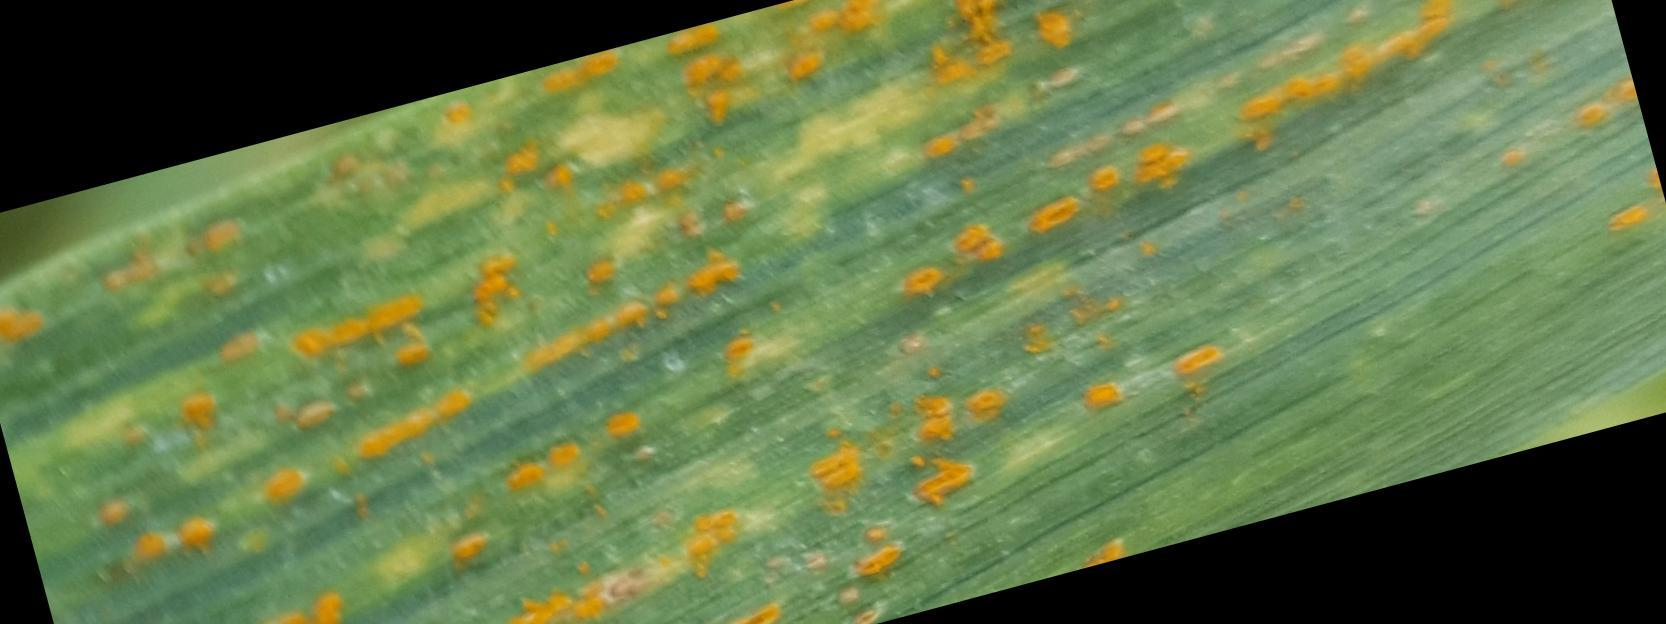Wheat: (437, 106, 951, 290), (185, 296, 668, 465), (113, 478, 669, 624), (958, 124, 1214, 308), (687, 6, 1160, 97), (788, 390, 1011, 560), (1228, 21, 1542, 132)
